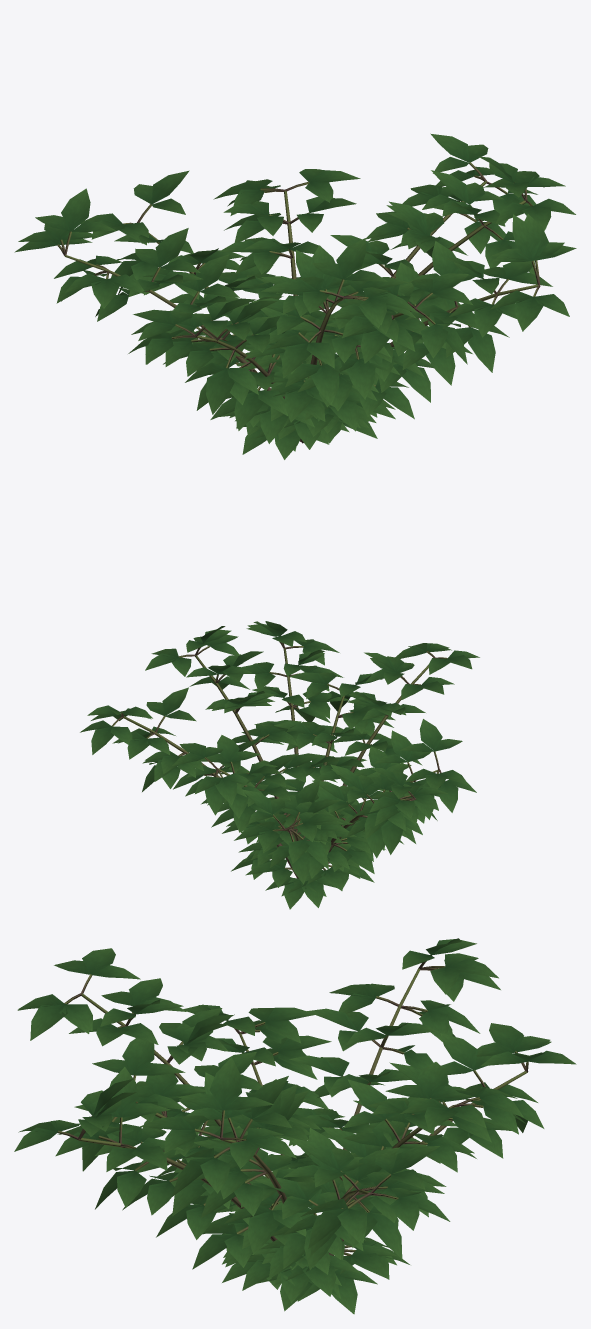
File: dewberry.glb
The picture shows the model from 3 angles, top to bottom: view 1: azimuth 30°, elevation 25°; view 2: azimuth 150°, elevation 25°; view 3: azimuth 270°, elevation 25°; orthographic projection. The views are drawn at different scales.
Parts seen in each view (by area): view 1: dewberry; view 2: dewberry; view 3: dewberry.
Part boxes in pixels (<box>): dewberry: <box>14,133,576,459</box>; dewberry: <box>80,621,479,909</box>; dewberry: <box>14,938,576,1314</box>.
Bounding box in the file's own units: 0.8561 × 0.482 × 0.793.
Materials: 1 (1 with a texture image).
